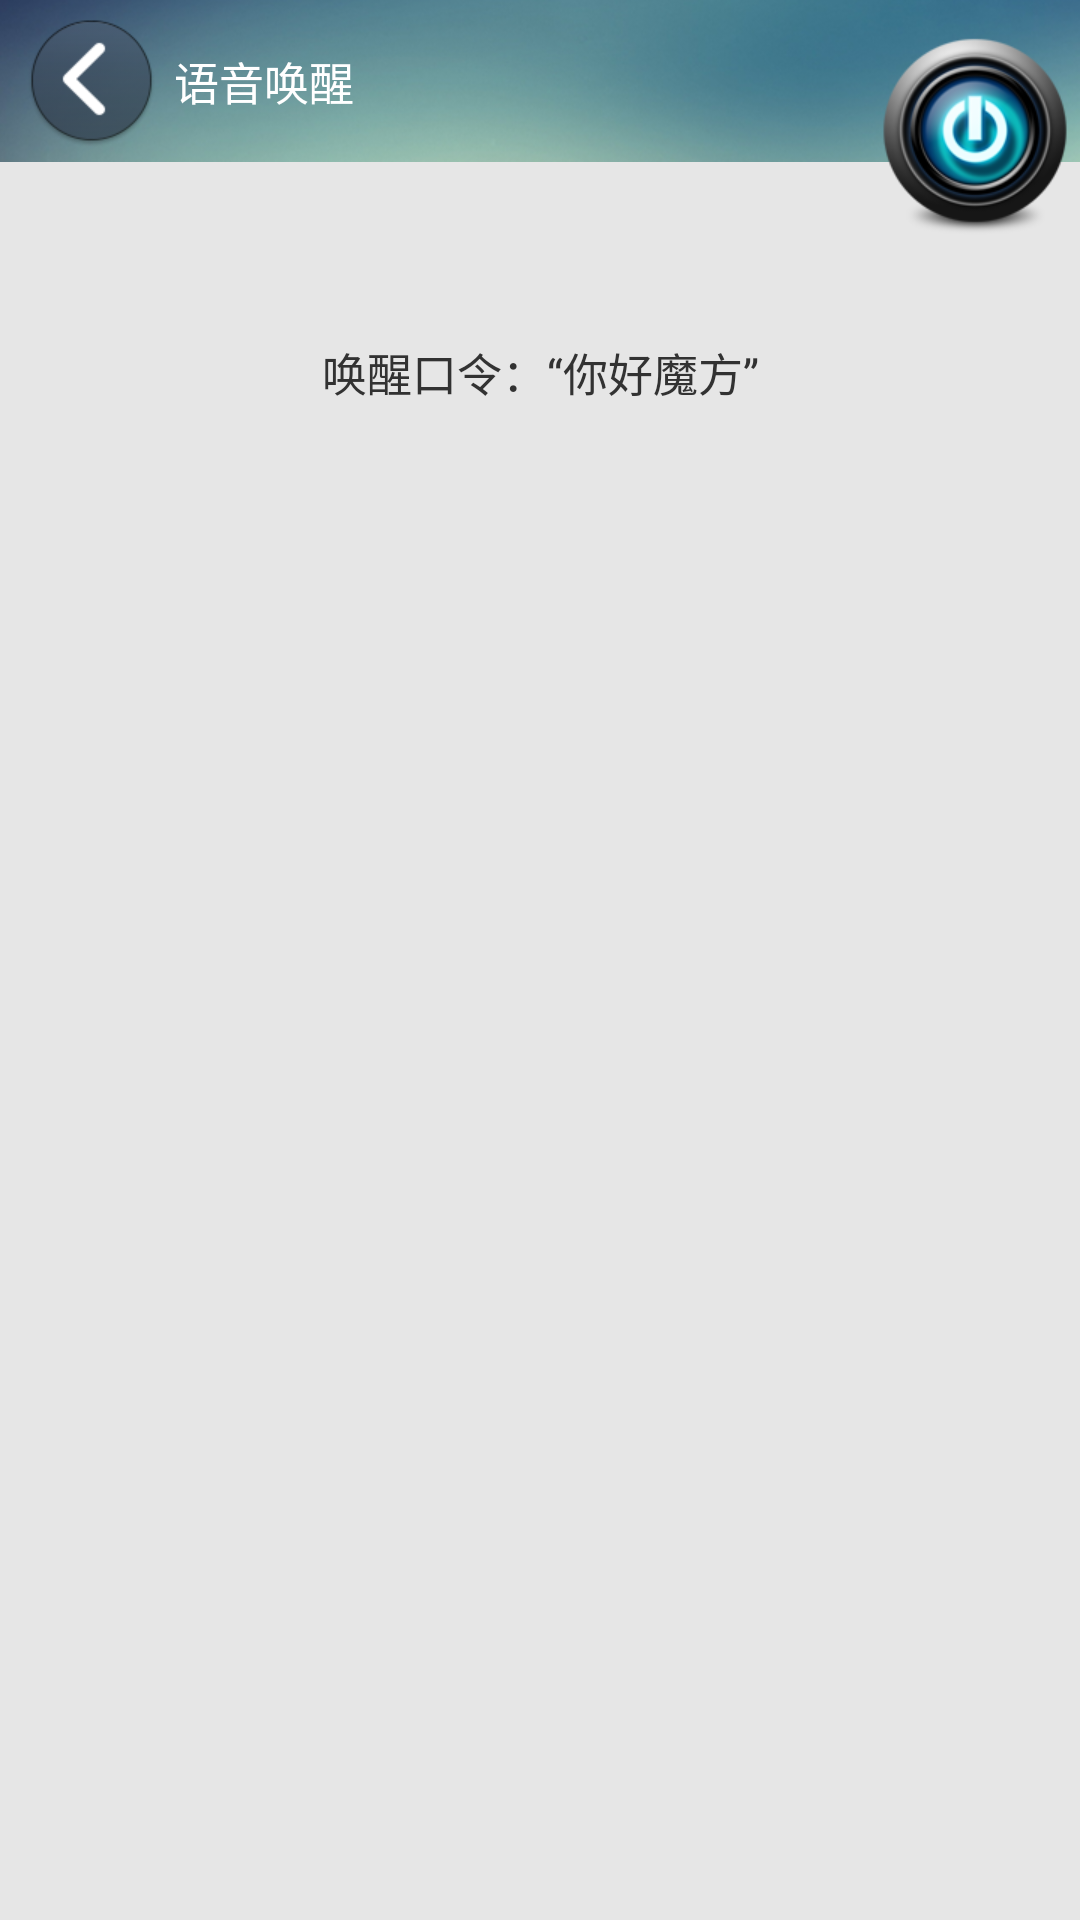

Point at icon controls on the screen. Image size 1080px×1920px, points as point (x, y).
back: point (91, 80)
wakeup: point (975, 135)
